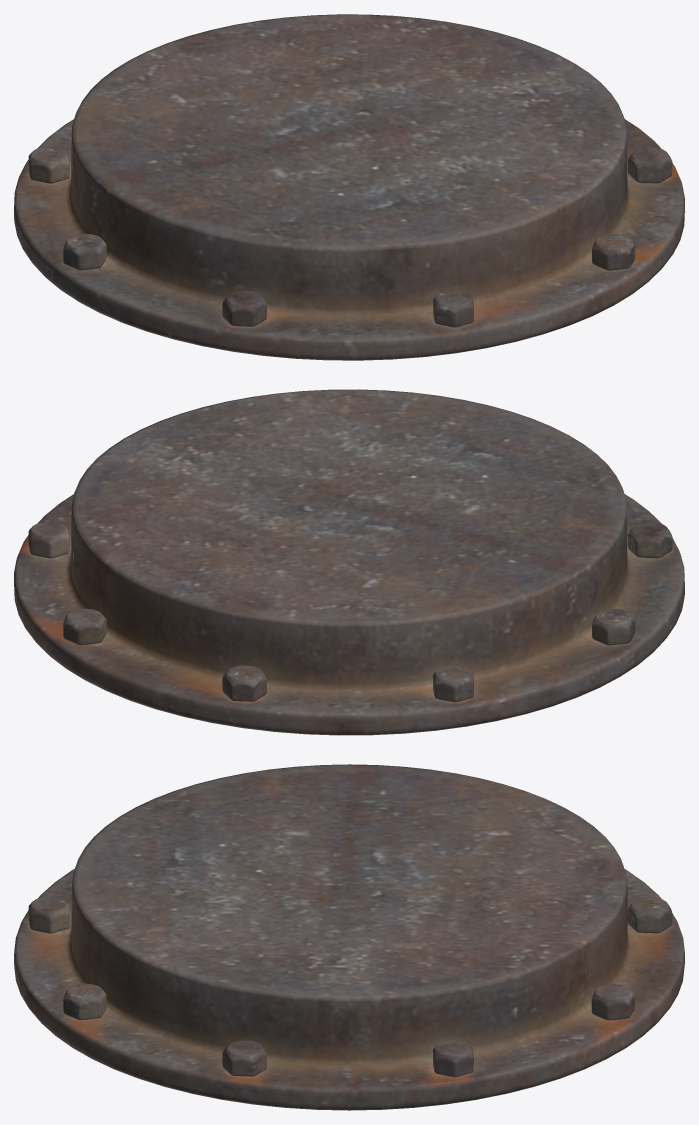
File: SM_LargePipe_connection_02.fbx
3 renders of one model, top to bottom at view 1: azimuth 30°, elevation 25°; view 2: azimuth 150°, elevation 25°; view 3: azimuth 270°, elevation 25°, orthographic.
Parts seen in each view (by area): view 1: SM_LargePipe_connection_02_LOD0; view 2: SM_LargePipe_connection_02_LOD0; view 3: SM_LargePipe_connection_02_LOD0.
Boxes of the visible parts, box(x1,y1,x2,y2) form: SM_LargePipe_connection_02_LOD0: box(14, 14, 684, 360); SM_LargePipe_connection_02_LOD0: box(14, 389, 684, 735); SM_LargePipe_connection_02_LOD0: box(14, 764, 684, 1110).
Size of the model in its own units: 84.8 by 84.81 by 12.66.
